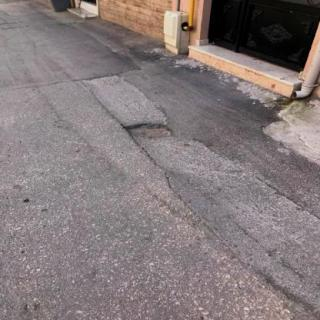pothole: (125, 124, 242, 176)
